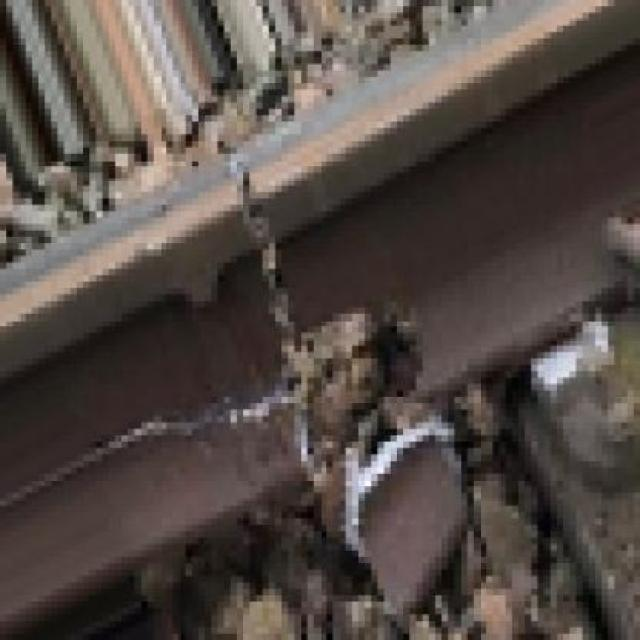defective: (5, 78, 552, 640)
